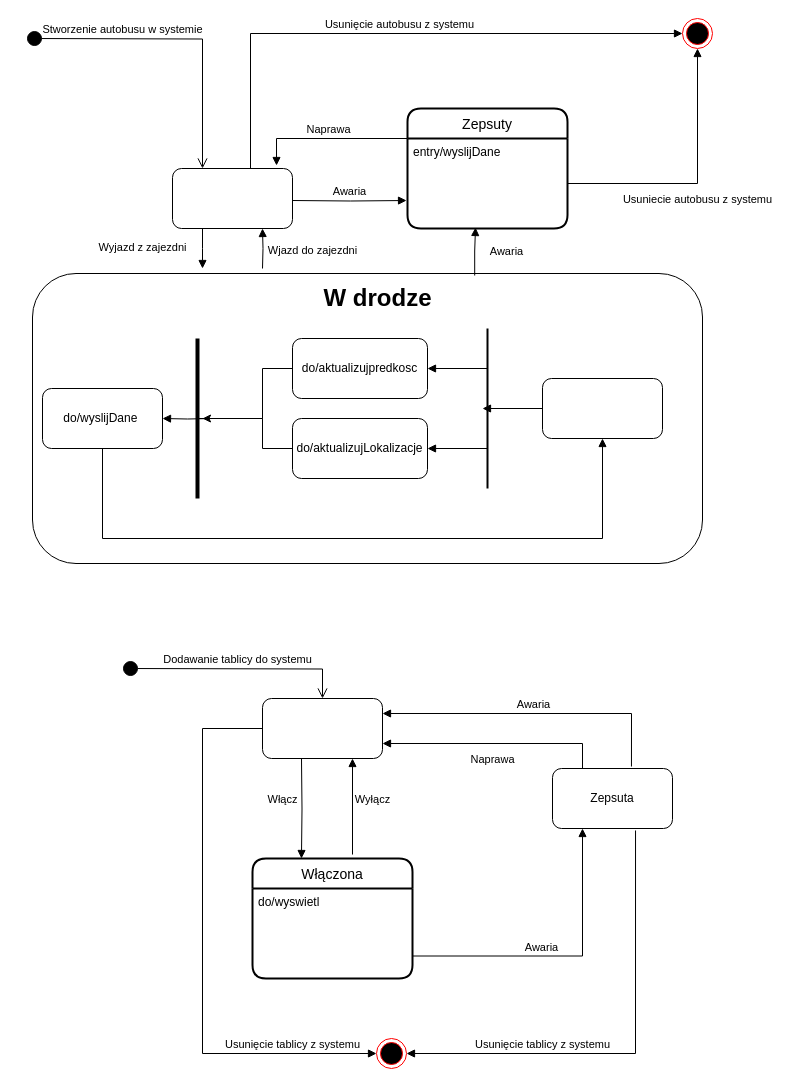
This 789x1086 diagram has some shape labels left out. The centre of each missing label's shape, as x and y in pixels:
"oczekiwanie" goes at point (602, 408).
"W zajezdni" goes at point (232, 198).
"Wyłączona" goes at point (322, 728).
